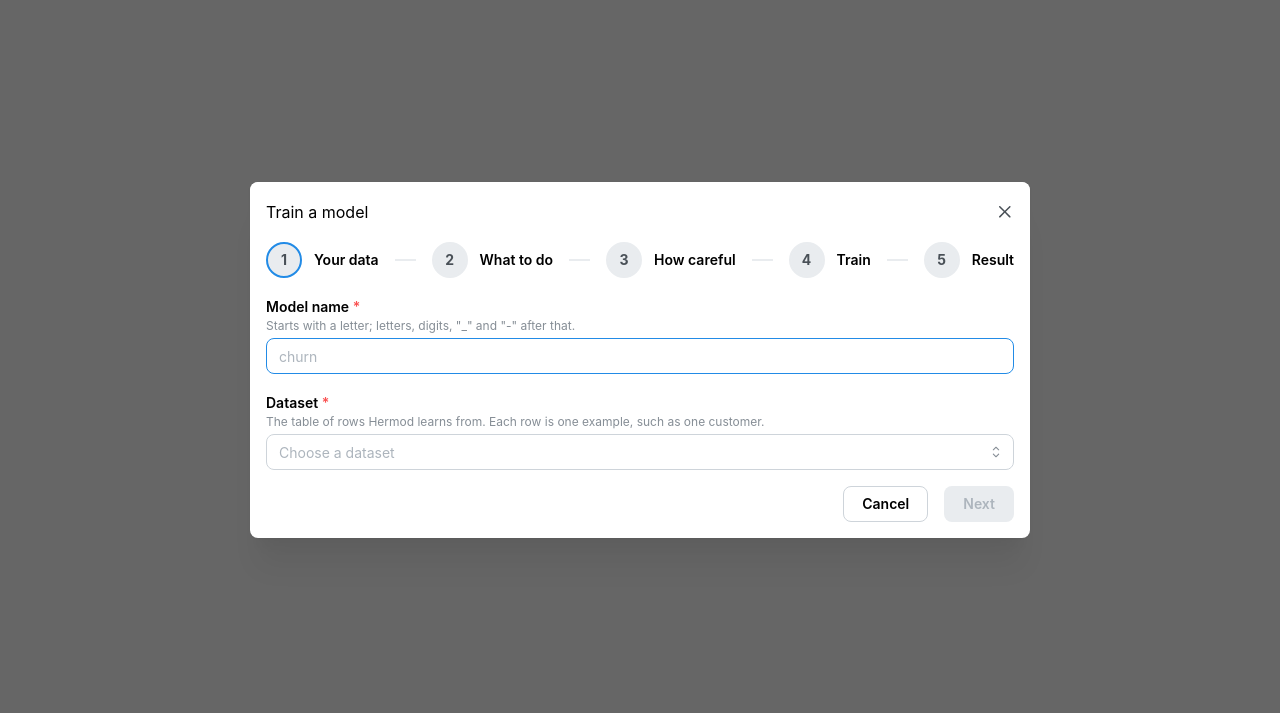
What data do I need? › opens from the predict card with the category guide, and switches to numbers
Type "m1" into the field labelled "Model name *" at (640, 356), box [266,338,1014,374]
Click the dropdown labelled "Dataset *" at (640, 452), box [266,434,1014,470]
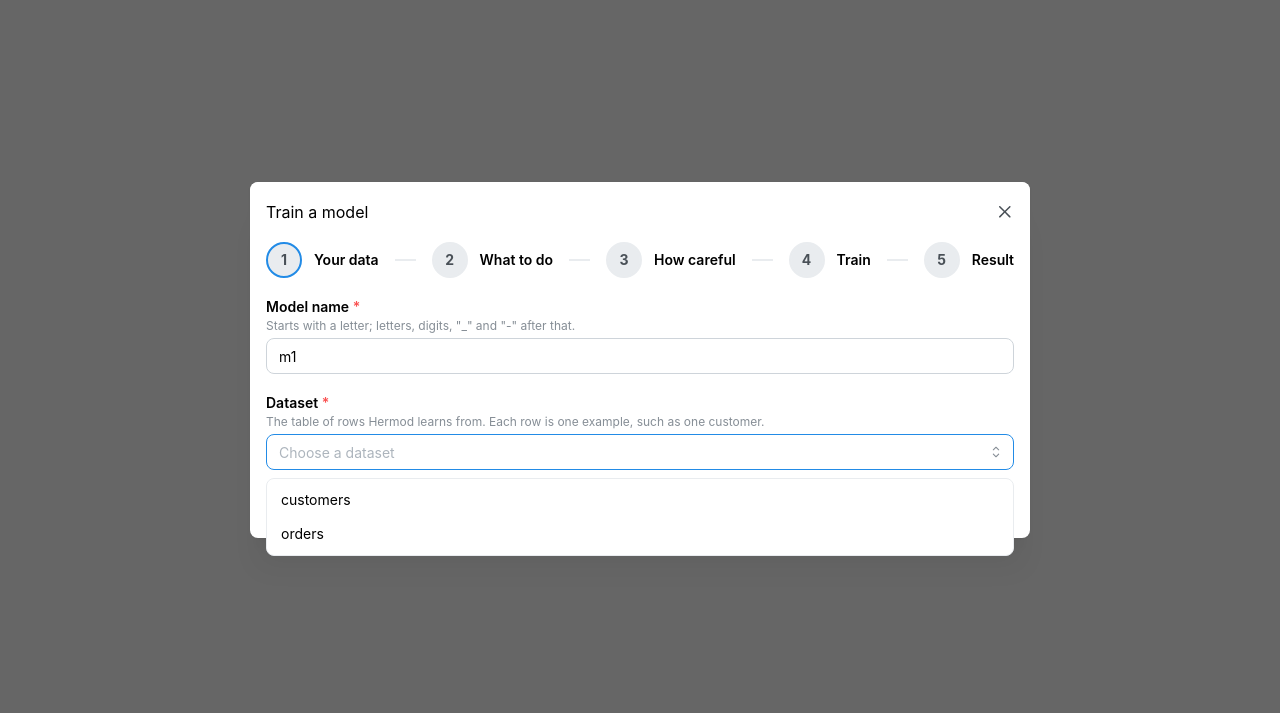
Click the option "customers" at (316, 500), box [281,491,351,508]
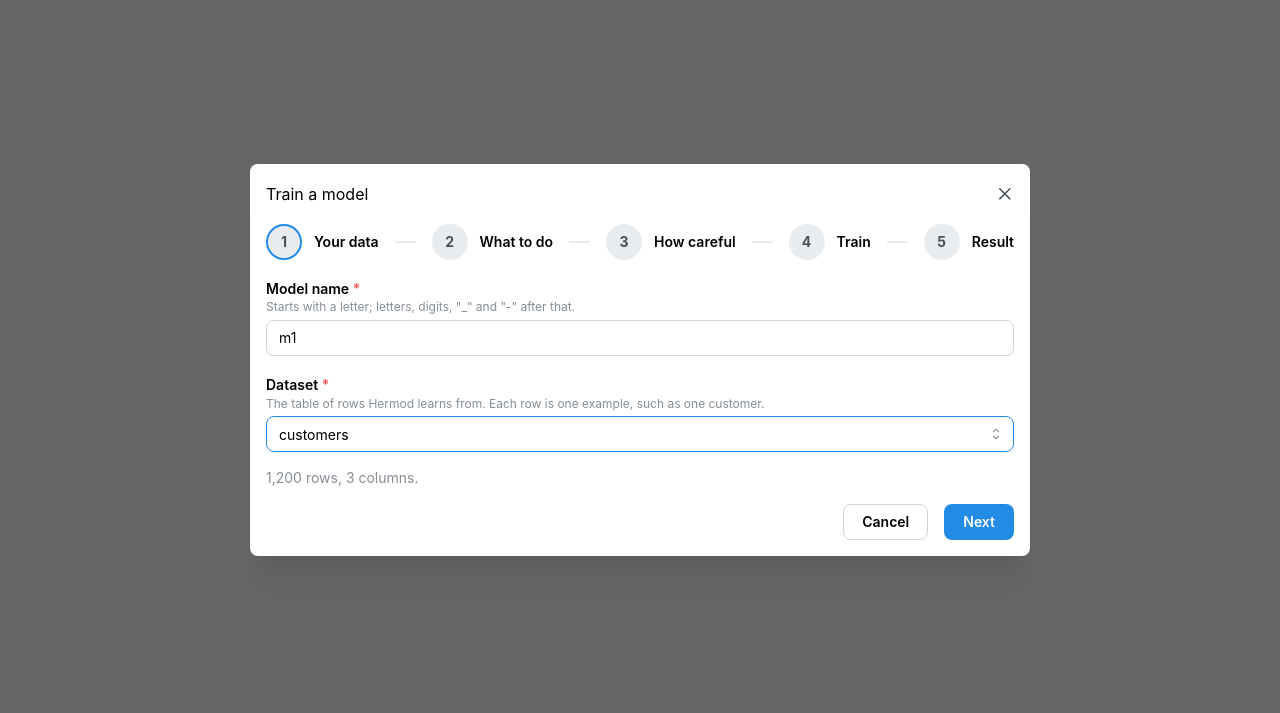
Click the button "Next" at (979, 522), box [944,504,1014,540]
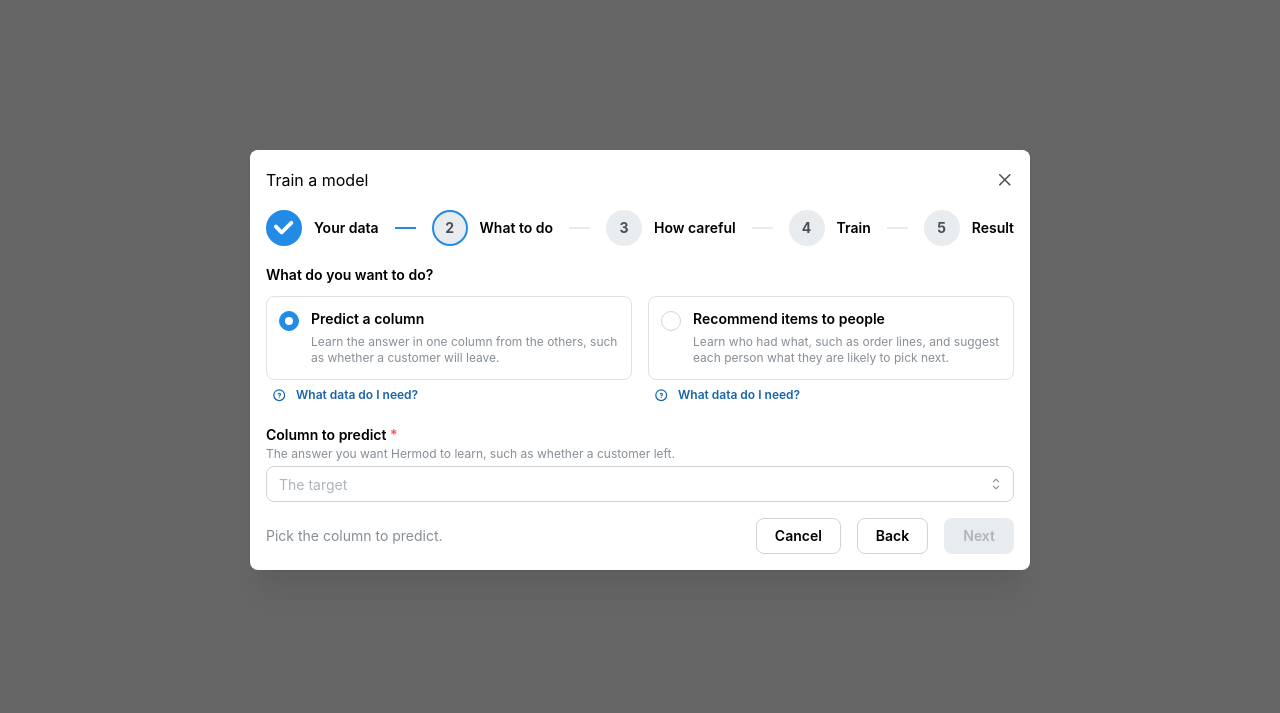
Click the button with aria-label "What data do I need for Predict a category?" at (346, 395), box [266,384,426,406]
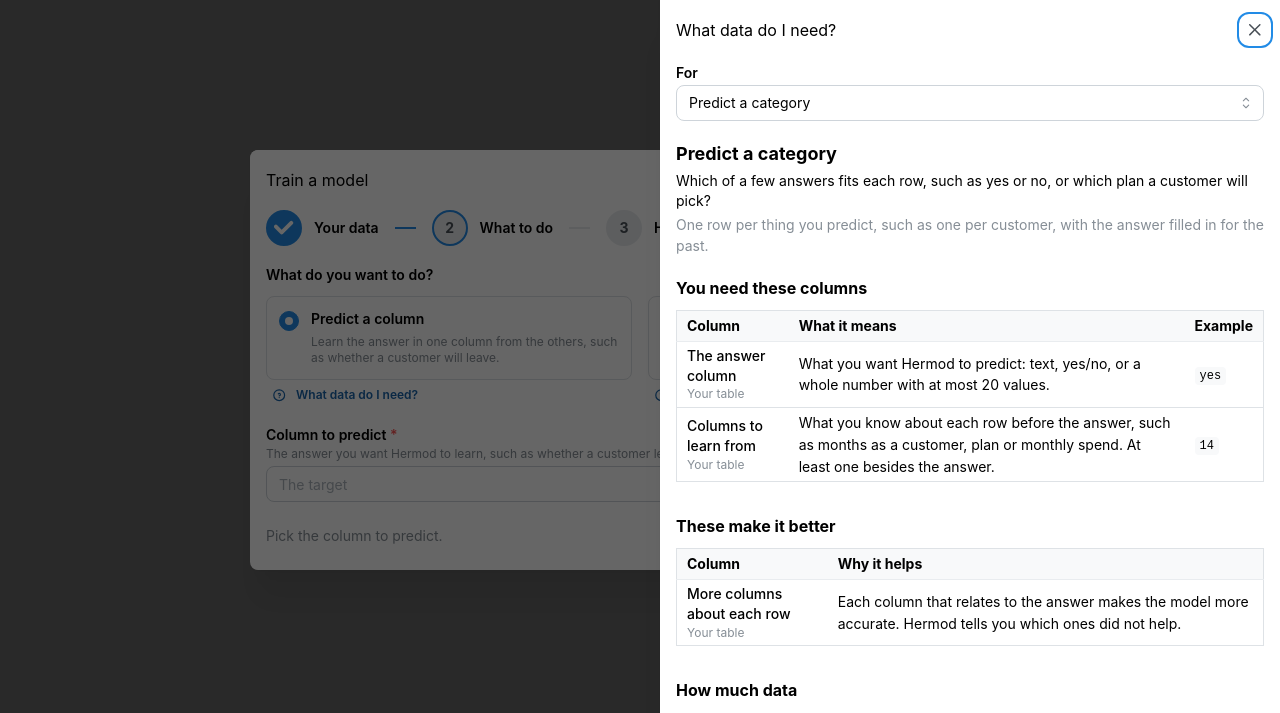
Expected: the heading "Predict a category" is shown, [676,143,837,164]
Click the dropdown labelled "For" at (970, 103), box [676,85,1264,121]
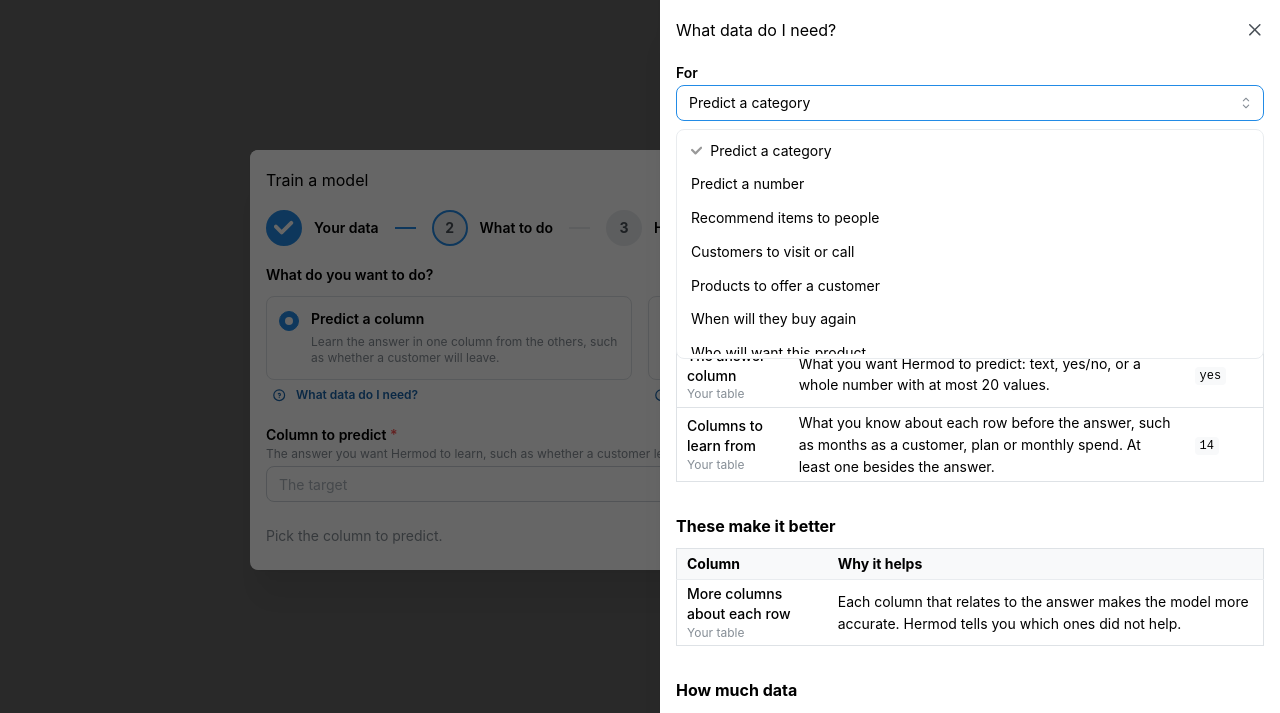
Click the option "Predict a number" at (748, 184), box [691,176,804,192]
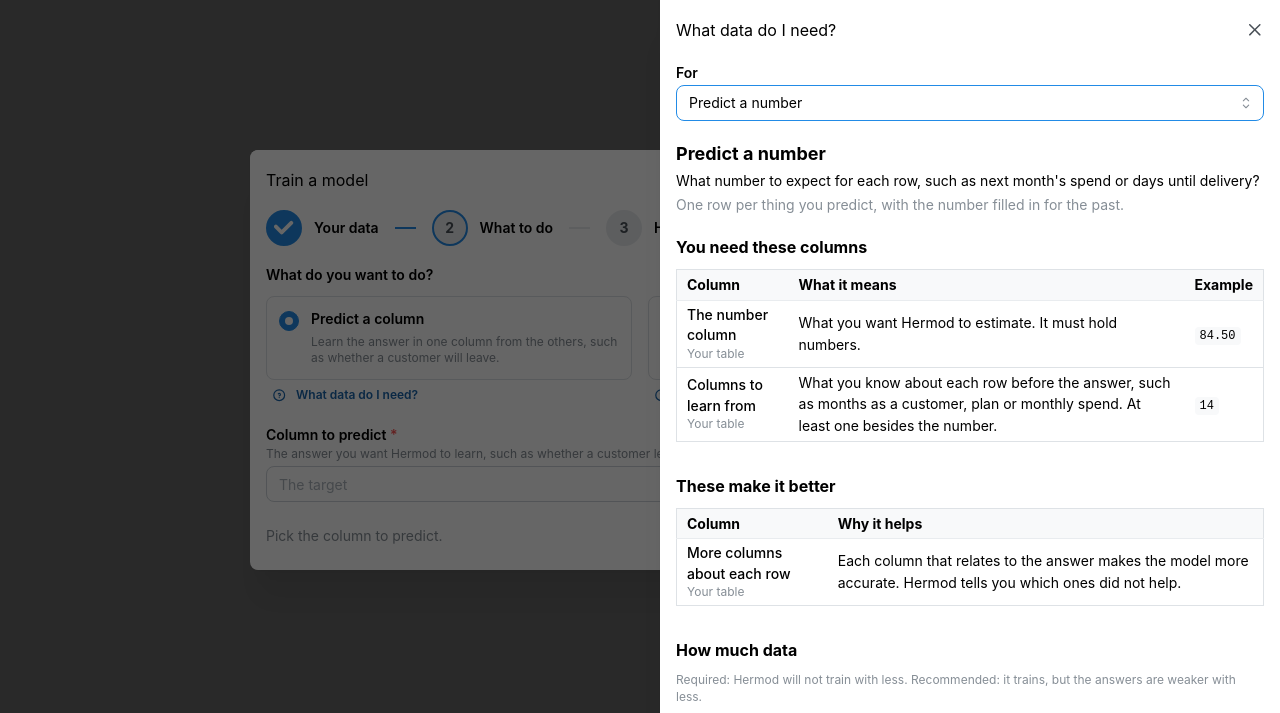
Expected: the heading "Predict a number" is shown, [676,143,826,164]
